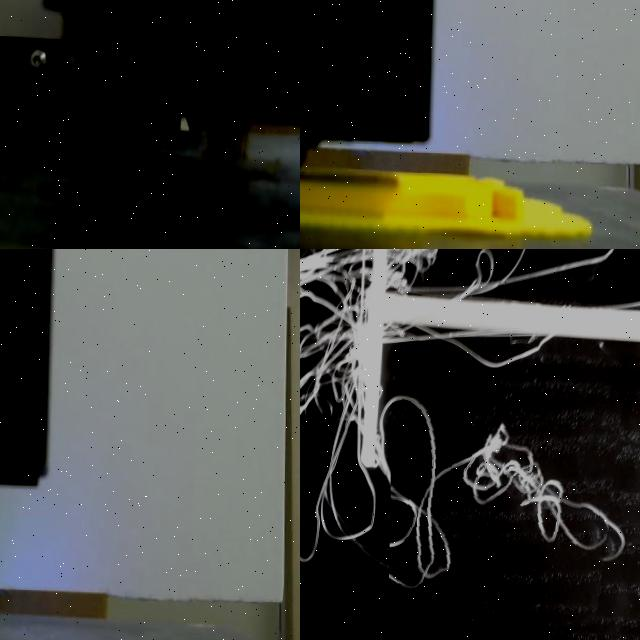spaghetti: (300, 249, 640, 590), (388, 398, 624, 638), (197, 128, 246, 170)
